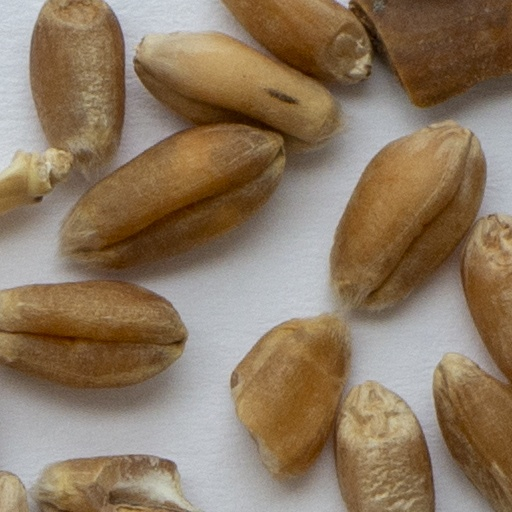Peel-poly: (348, 0, 511, 107), (0, 142, 78, 221)
Wheat-grain-damaged-poly: (229, 305, 353, 485), (31, 452, 219, 511)
